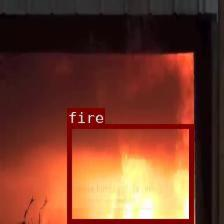fire: (66, 124, 192, 222)
